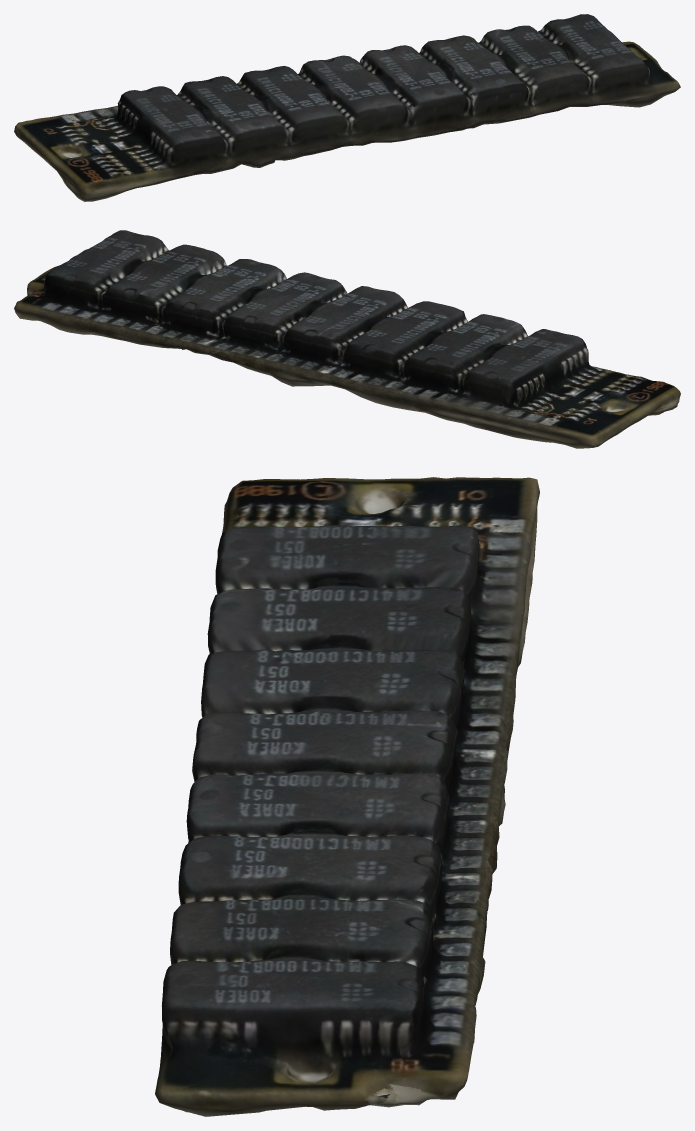
Rendered from kingston_early_ram.glb.
3 renders of one model, top to bottom at view 1: azimuth 30°, elevation 25°; view 2: azimuth 150°, elevation 25°; view 3: azimuth 270°, elevation 25°, orthographic. The views are drawn at different scales.
Parts seen in each view (by area): view 1: 3DModel; view 2: 3DModel; view 3: 3DModel.
Boxes of the visible parts, bbox=[...] form: 3DModel: bbox=[14, 14, 680, 201]; 3DModel: bbox=[14, 230, 680, 448]; 3DModel: bbox=[155, 477, 539, 1116].
Bounding box in the file's own units: 0.8579 × 0.1002 × 0.2435.
1 material, 1 textured.
